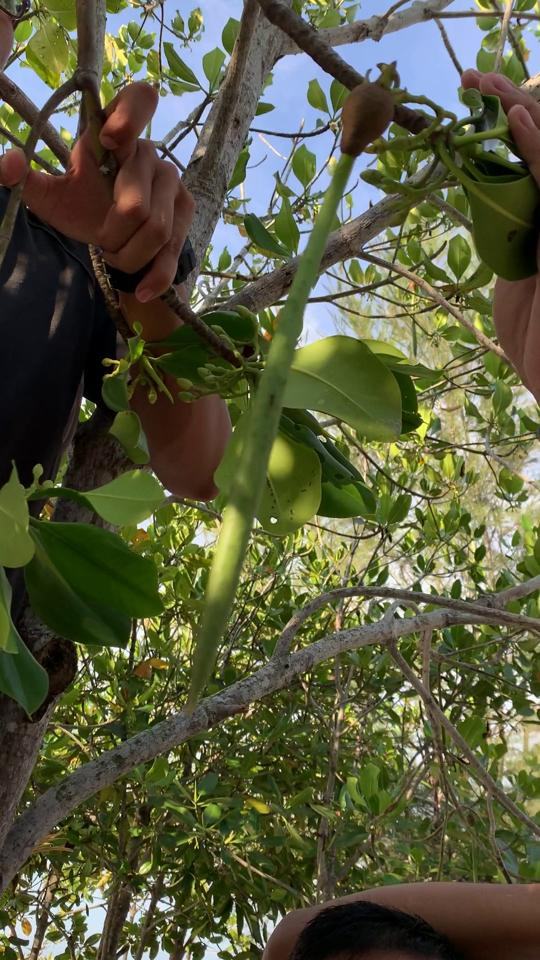mentah: (170, 58, 413, 727)
